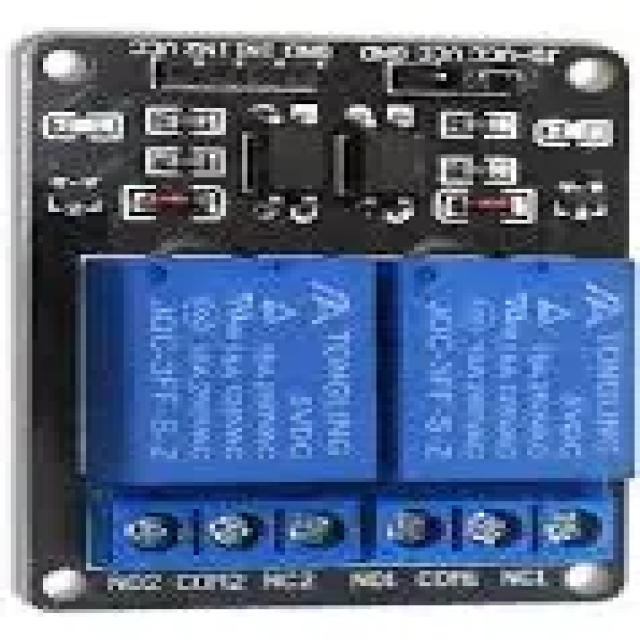Relay: (0, 0, 640, 613)
